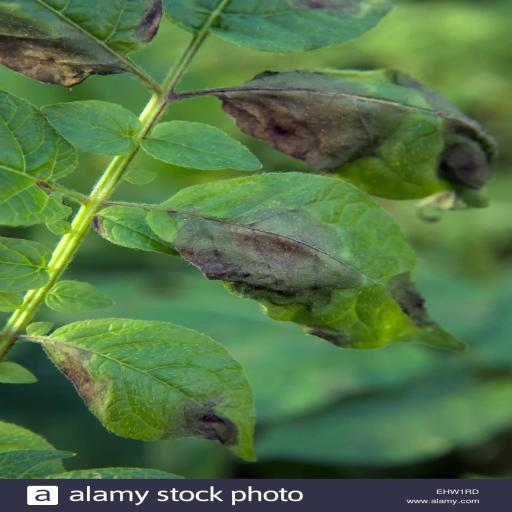Late Blight: (140, 170, 474, 358), (219, 61, 503, 215), (34, 314, 272, 466)
